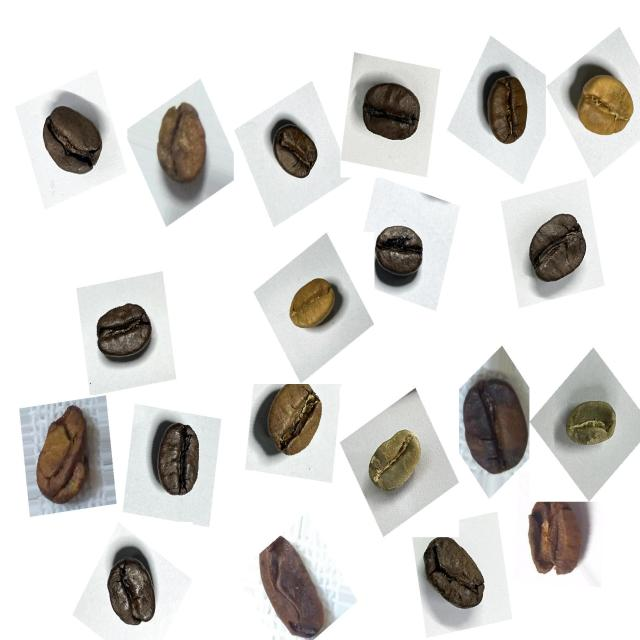bad: (450, 364, 538, 486), (25, 398, 106, 512), (251, 526, 333, 635), (146, 90, 222, 198), (517, 492, 597, 592)
dark: (31, 95, 113, 189), (96, 542, 172, 636), (418, 532, 496, 622), (147, 412, 214, 512), (351, 71, 427, 159), (88, 288, 164, 374), (261, 110, 327, 192)
green: (358, 414, 432, 504), (557, 385, 624, 460)
light: (565, 57, 640, 154), (280, 261, 352, 343)
medium: (519, 195, 598, 296), (254, 376, 334, 470), (475, 68, 541, 158), (370, 213, 435, 293)
